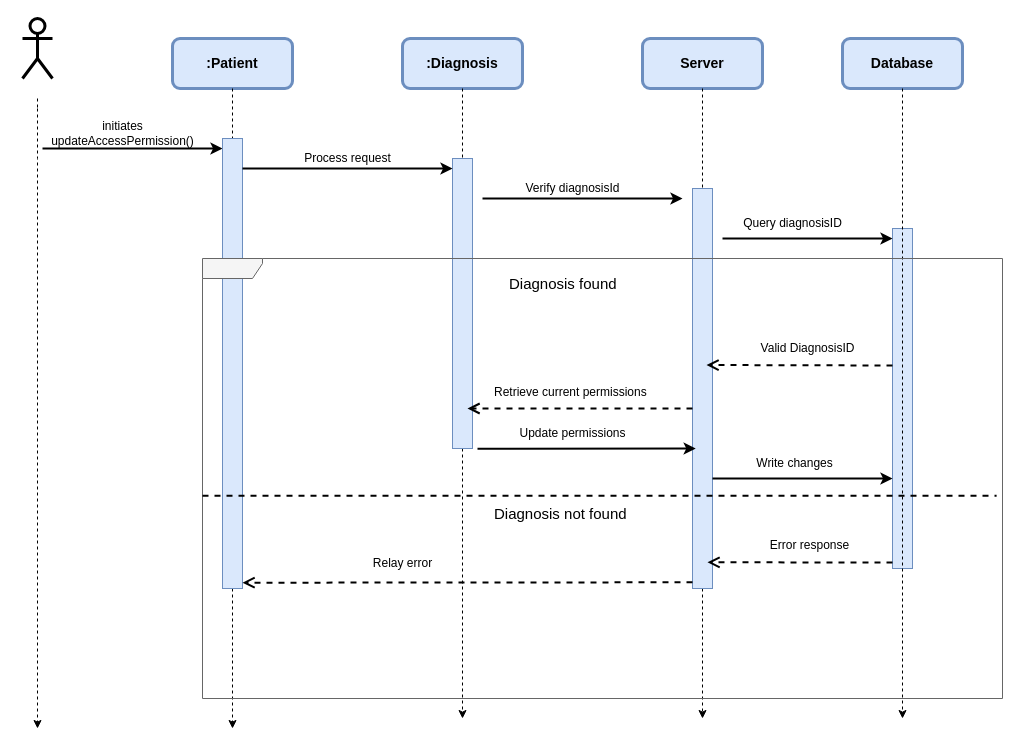
Some shapes in this 1020 by 754 pixel diagram are drawn without their labels. The shapes that lost their labels are listed below. From the top down, each one's box as (x1, y1, x2, y2) in pixels, then its label:
(20, 16, 54, 80): Patient
(202, 258, 1002, 698): alt
